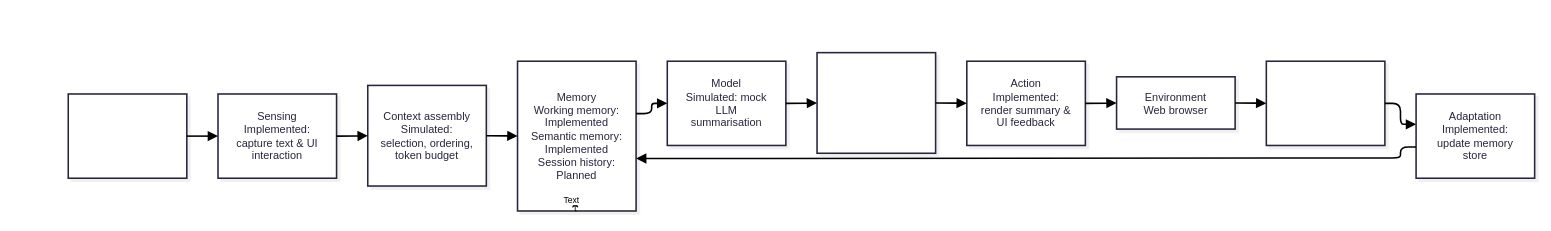
This 1551x231 diagram has some shape labels left out. Here are the shapes that lost their labels. From the top down, the centre of each, then its label:
point 877,104: Planning Implemented: validation + confidence scoring
point 1326,104: Feedback Implemented: edit / delete preference
point 128,137: Human Student: submit notes, edit preferences
